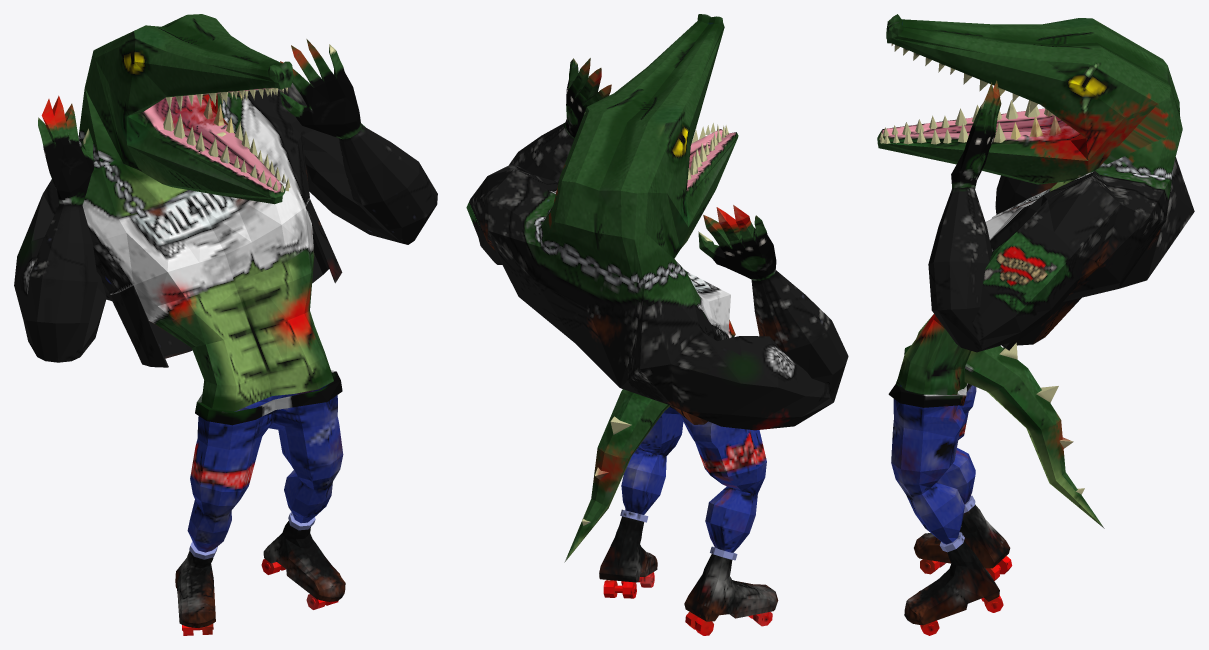
The model's file is cocodrilaBonesSelect_000012.obj.
3 views of the same model, side by side, from view 1: azimuth 30°, elevation 25°; view 2: azimuth 150°, elevation 25°; view 3: azimuth 270°, elevation 25° (orthographic). The views are drawn at different scales.
Parts seen in each view (by area): view 1: Crocodile.002_Cylinder.002; view 2: Crocodile.002_Cylinder.002; view 3: Crocodile.002_Cylinder.002.
Part boxes in pixels (x1=…): Crocodile.002_Cylinder.002: x1=14, y1=14, x2=437, y2=635; Crocodile.002_Cylinder.002: x1=466, y1=14, x2=848, y2=635; Crocodile.002_Cylinder.002: x1=877, y1=14, x2=1194, y2=635.
Bounding box in the file's own units: 4.57 × 6.58 × 3.25.
